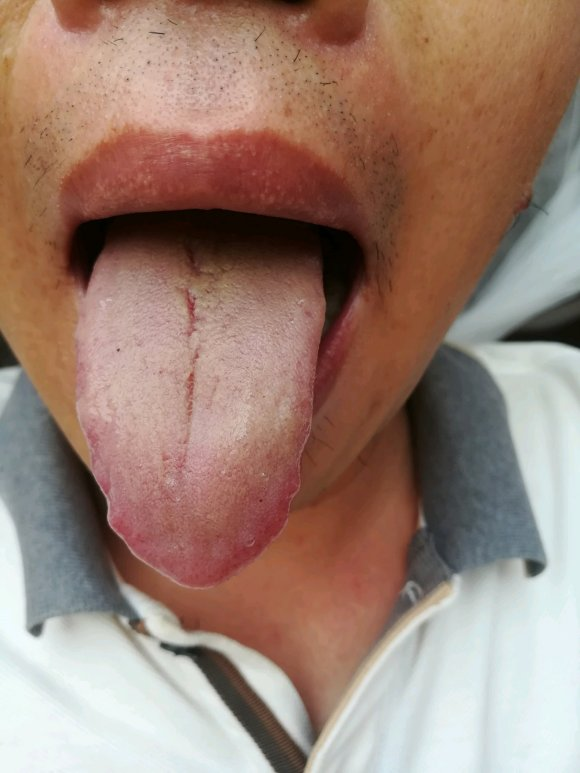baitaishe: (77, 221, 326, 588)
liewenshe: (174, 238, 200, 475)
shoushe: (77, 222, 326, 589)
